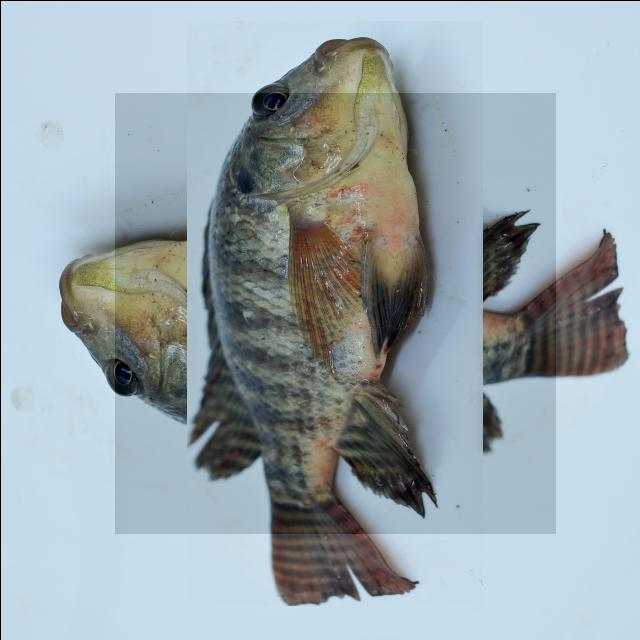Columnaris Disease: (114, 92, 555, 533)
